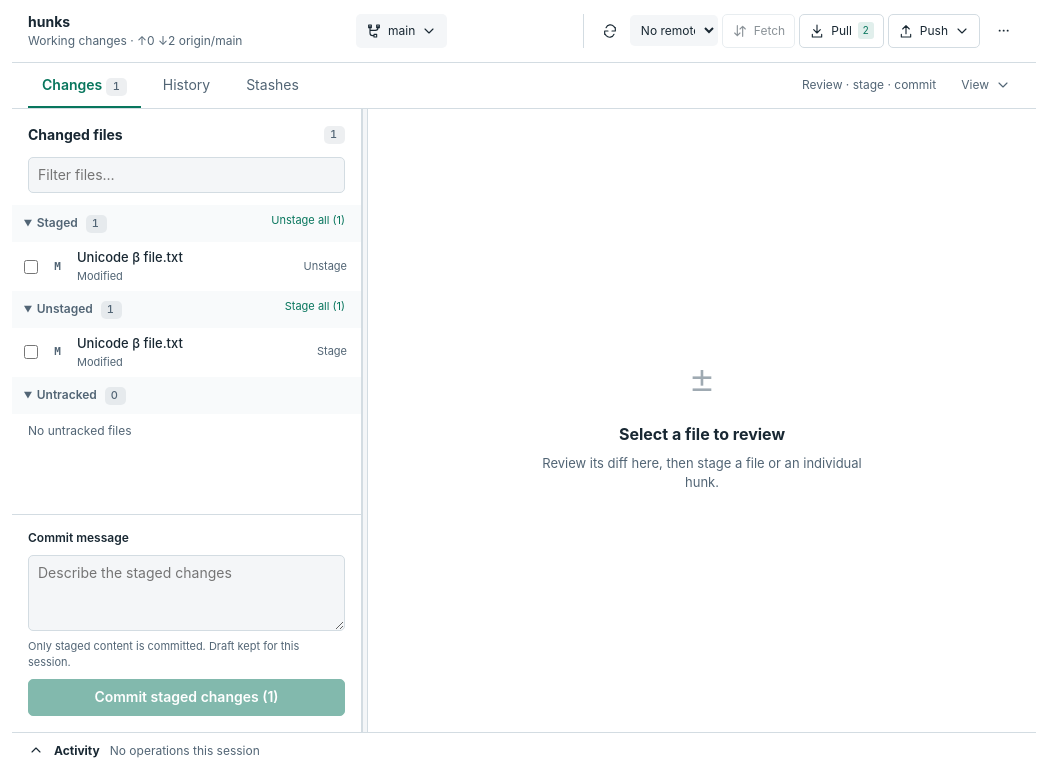
Test case: working hunk actions (mocked IPC) › suppresses an old diff read after switching staged/unstaged context
Click the 1st button "M Unicode β file.txt Modified" at coordinates (169, 267), box [42,242,296,291]
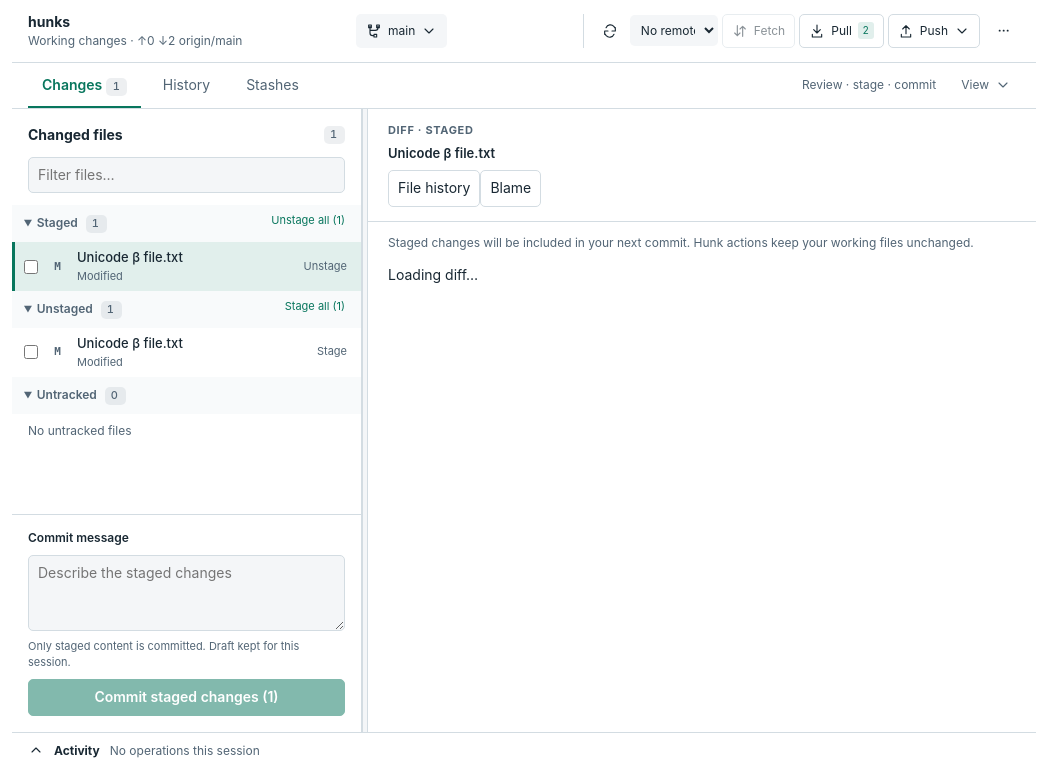
Click the button "M Unicode β file.txt Modified" below "Unstaged" at coordinates (176, 352), box [42,328,309,377]
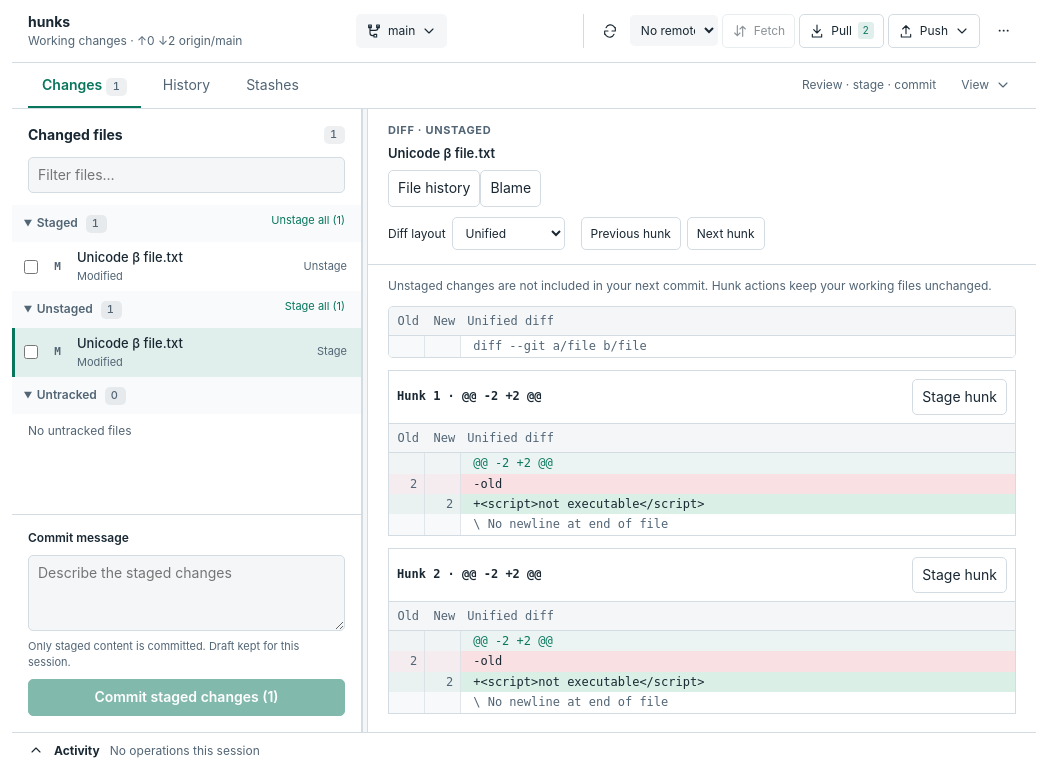
Expected: the element labelled "Hunk 1" is shown, [388,370,1016,536]
Expected: the number of buttons "Stage hunk" is 2, [912,379,1007,415]; [912,557,1007,593]
